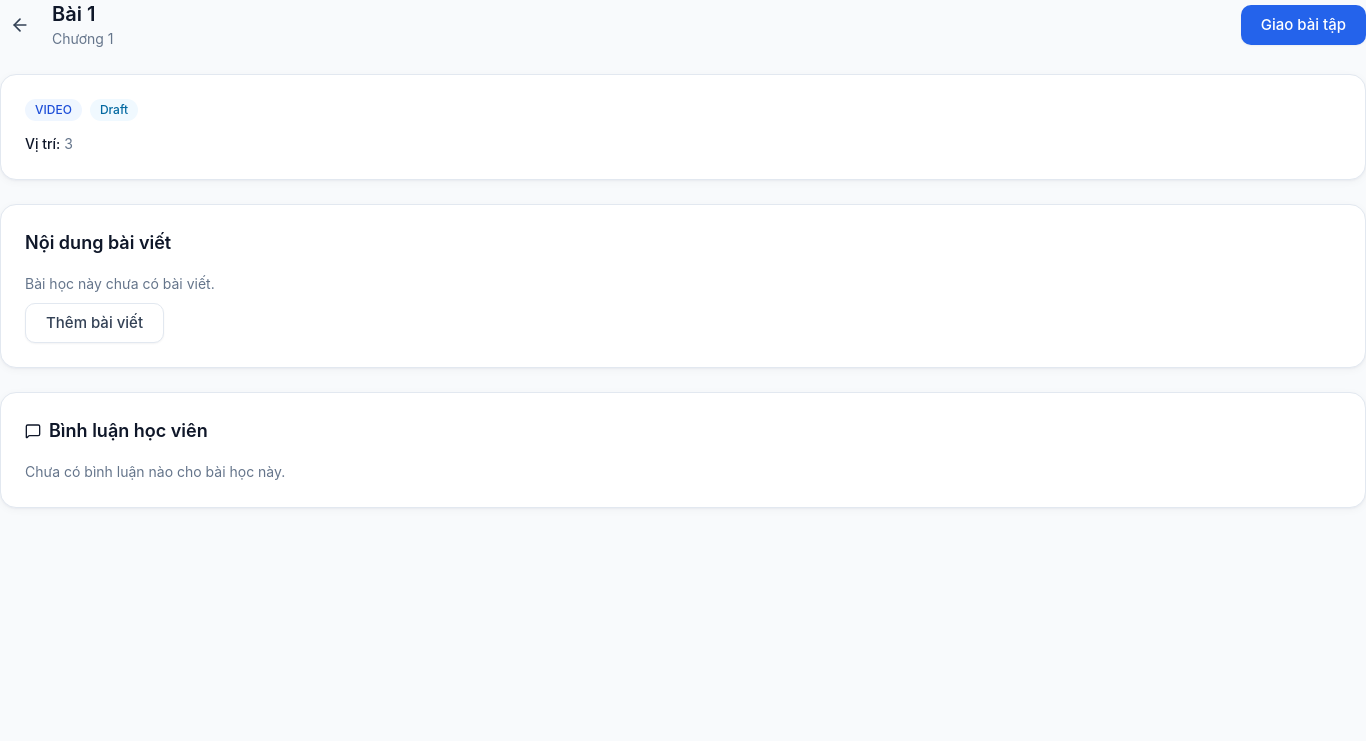
Test: /teacher/courses/[id]/lessons/[lessonId] — soạn bài viết (T1) › bài có nội dung khác (video) mà chưa có bài viết: không bày form trống, chỉ có nút 'Thêm bài viết'
The width and height of the screenshot is (1366, 741).
Expected: the field labelled "Tiêu đề bài viết" is not shown
Click the button "Thêm bài viết".
click(94, 323)  # box left=25, top=303, right=164, bottom=343
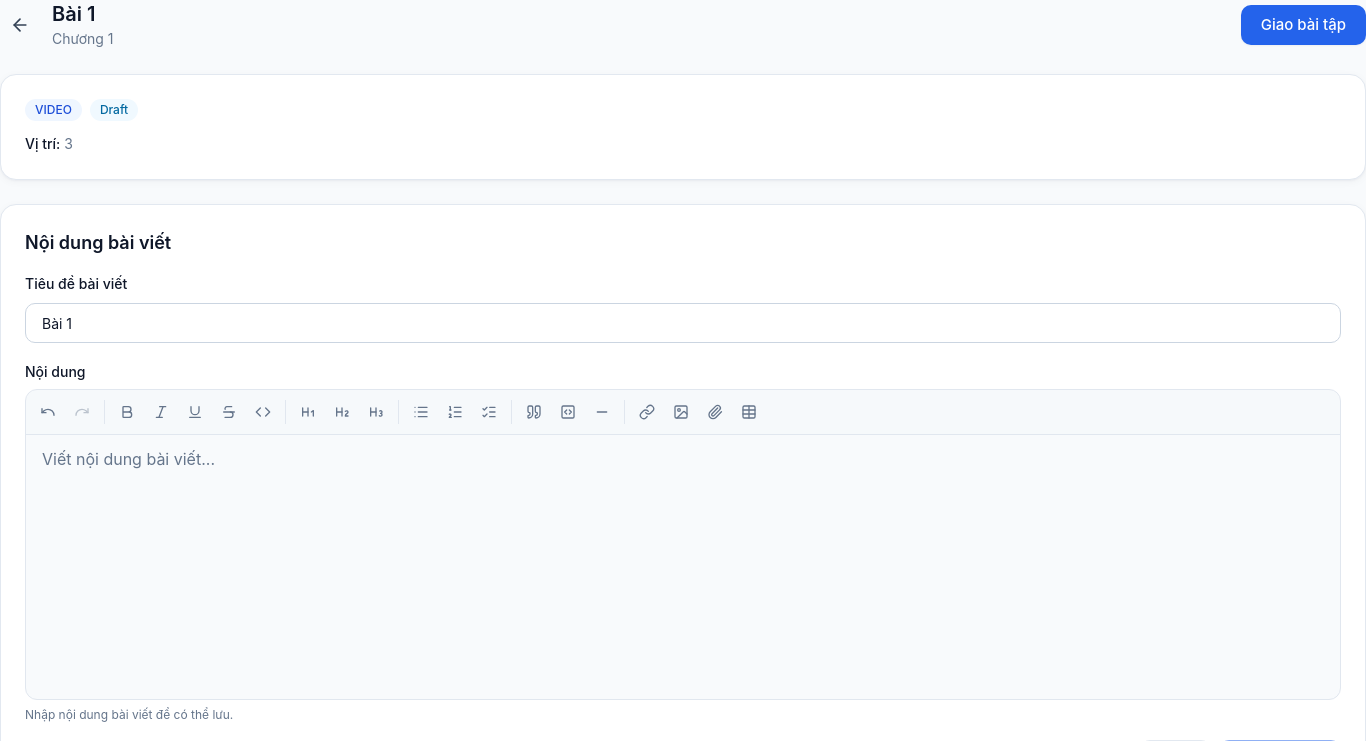
Expected: the field labelled "Tiêu đề bài viết" is shown, left=25, top=303, right=1341, bottom=343
